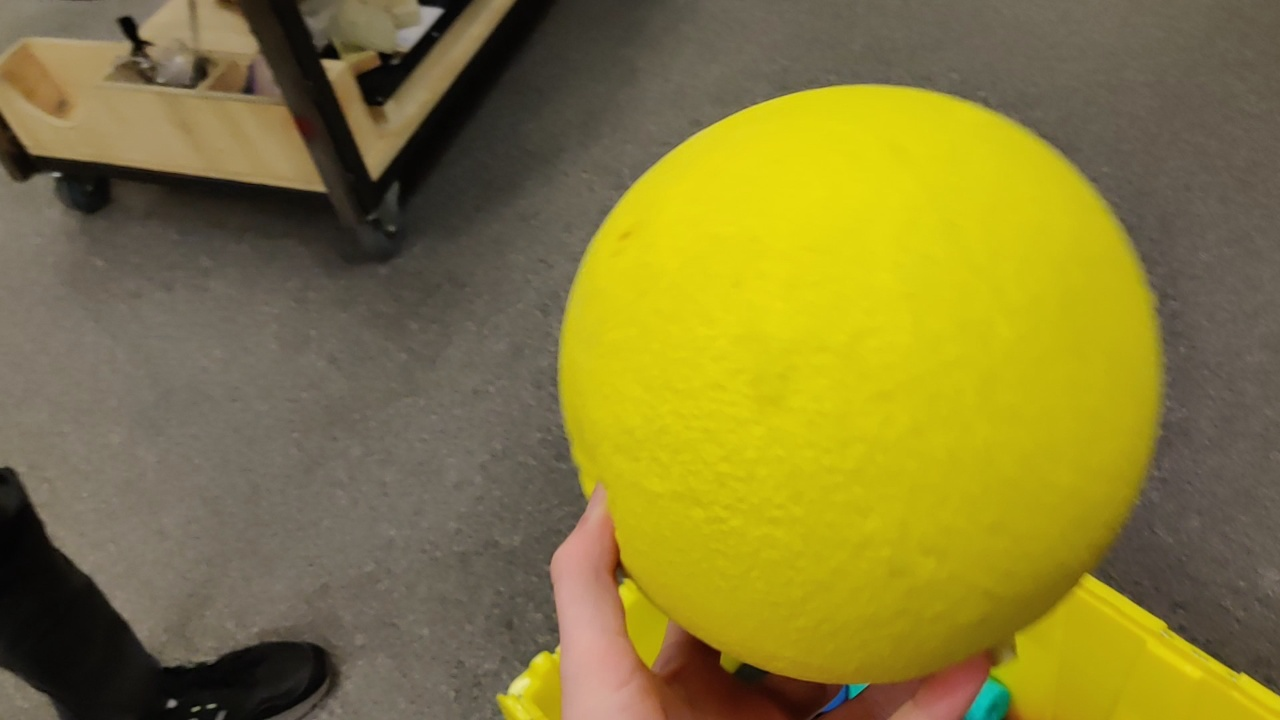Ball: (556, 83, 1165, 685)
